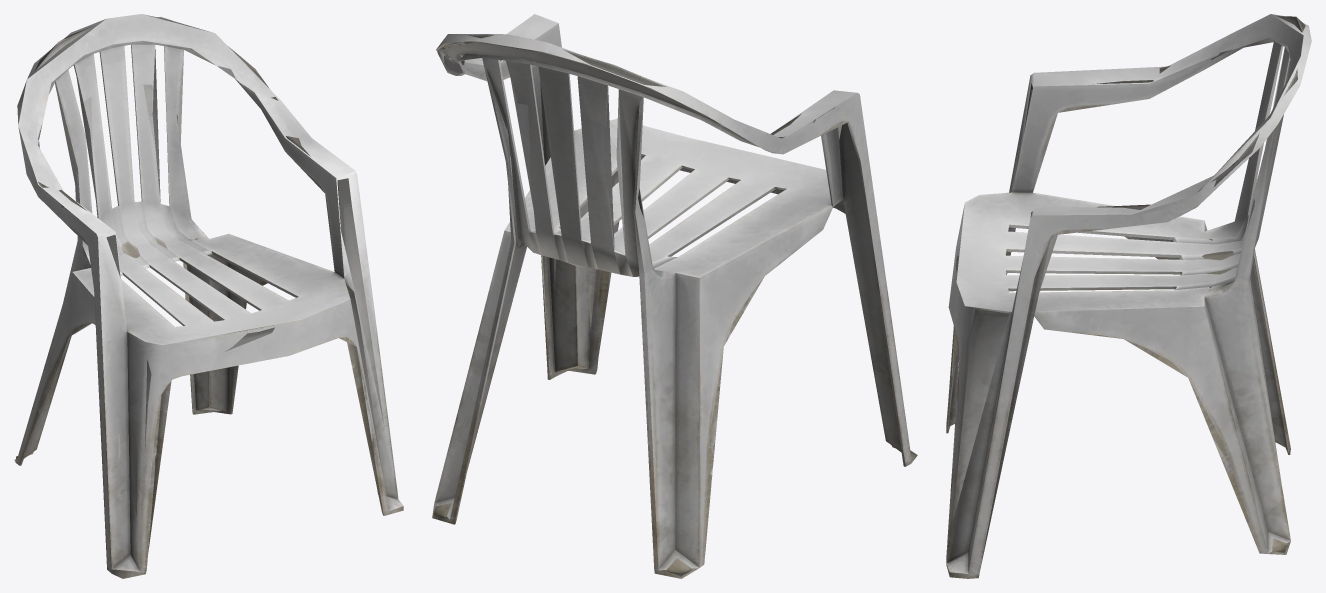
Rendered from plastic_monobloc_chair_01.glb.
3 views of the same model, side by side, from view 1: azimuth 30°, elevation 25°; view 2: azimuth 150°, elevation 25°; view 3: azimuth 270°, elevation 25° (orthographic). The views are drawn at different scales.
Visible parts, largest first — view 1: plastic_monobloc_chair_01; view 2: plastic_monobloc_chair_01; view 3: plastic_monobloc_chair_01.
Boxes of the visible parts, x1,y1,x2,y2 form: plastic_monobloc_chair_01: [14, 14, 403, 578]; plastic_monobloc_chair_01: [432, 14, 917, 578]; plastic_monobloc_chair_01: [946, 14, 1311, 578].
Bounding box in the file's own units: 0.6419 × 0.8798 × 0.6276.
1 material, 1 textured.
